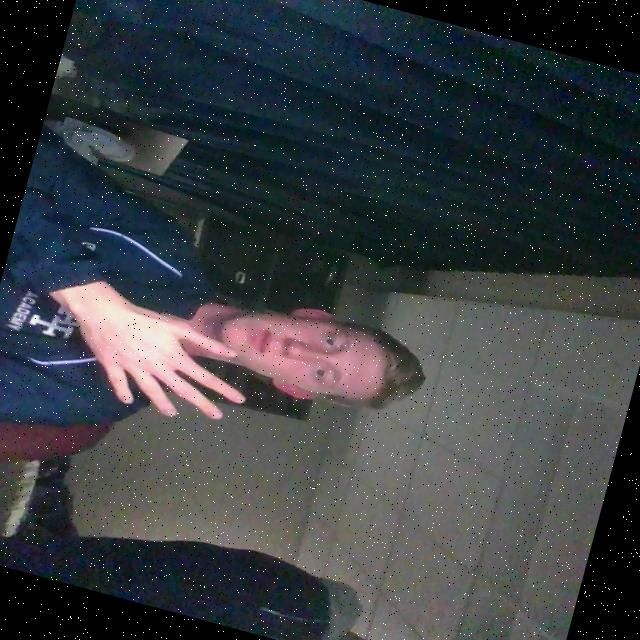paper: (46, 285, 262, 436)
